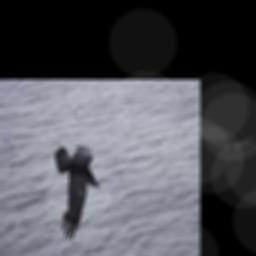Crow: (54, 142, 99, 241)
